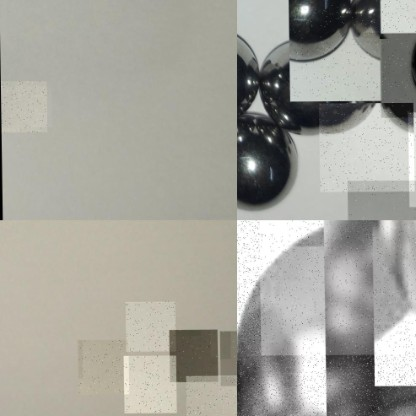ironball: (237, 220, 415, 415), (258, 220, 415, 355), (237, 246, 326, 415), (288, 0, 381, 101), (318, 102, 413, 191), (237, 107, 301, 210), (257, 37, 319, 140), (379, 32, 415, 118), (122, 355, 175, 413), (76, 339, 128, 394), (346, 180, 415, 220), (168, 329, 217, 382), (124, 301, 175, 351), (235, 31, 265, 111), (0, 81, 46, 132), (185, 375, 237, 415), (354, 0, 415, 32), (218, 331, 237, 386)
